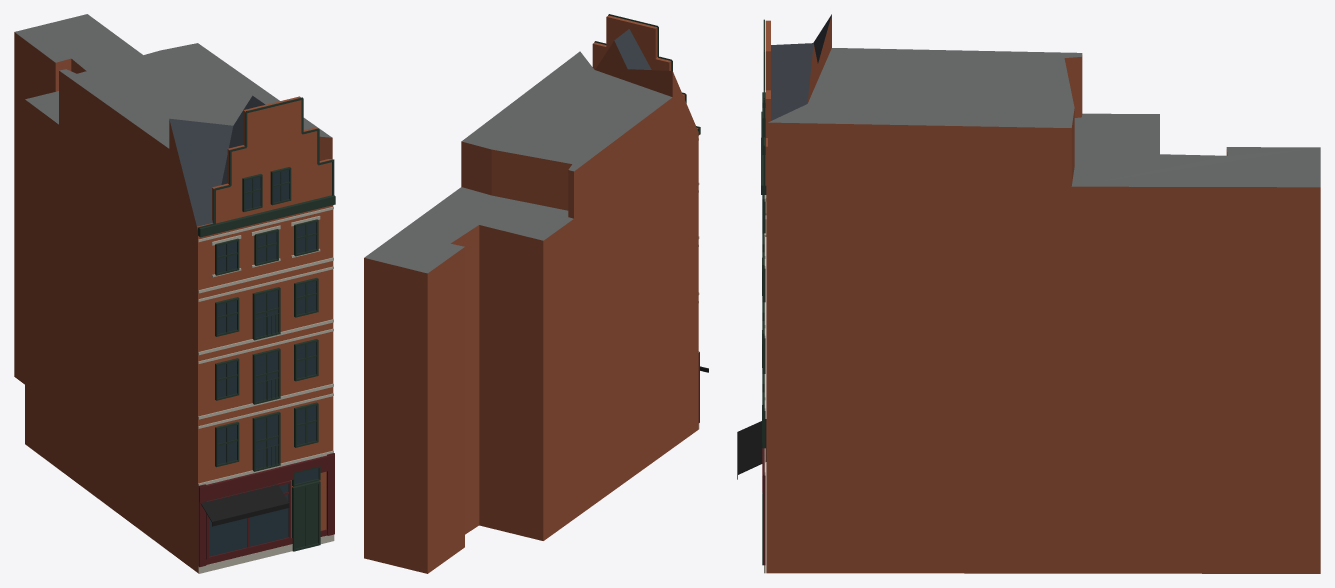
The model's file is recipe-bilder-156287.glb.
3 views of the same model, side by side, from view 1: azimuth 30°, elevation 25°; view 2: azimuth 150°, elevation 25°; view 3: azimuth 270°, elevation 25° (orthographic). The views are drawn at different scales.
Parts seen in each view (by area): view 1: bilder-156287; view 2: bilder-156287; view 3: bilder-156287.
Part boxes in pixels (bbox=[...]): bilder-156287: bbox=[14, 14, 335, 573]; bilder-156287: bbox=[364, 14, 708, 573]; bilder-156287: bbox=[737, 14, 1320, 573].
Size of the model in its own units: 6.08 by 19.19 by 20.08.
